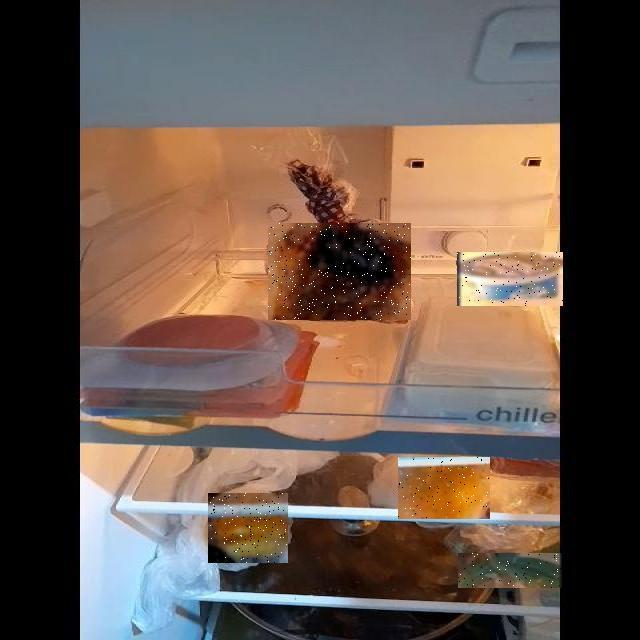Bread: (268, 223, 411, 320)
Chillies: (459, 553, 563, 588)
Lemon: (399, 457, 491, 519), (208, 493, 288, 563)
Yoghurt: (457, 252, 563, 306)
